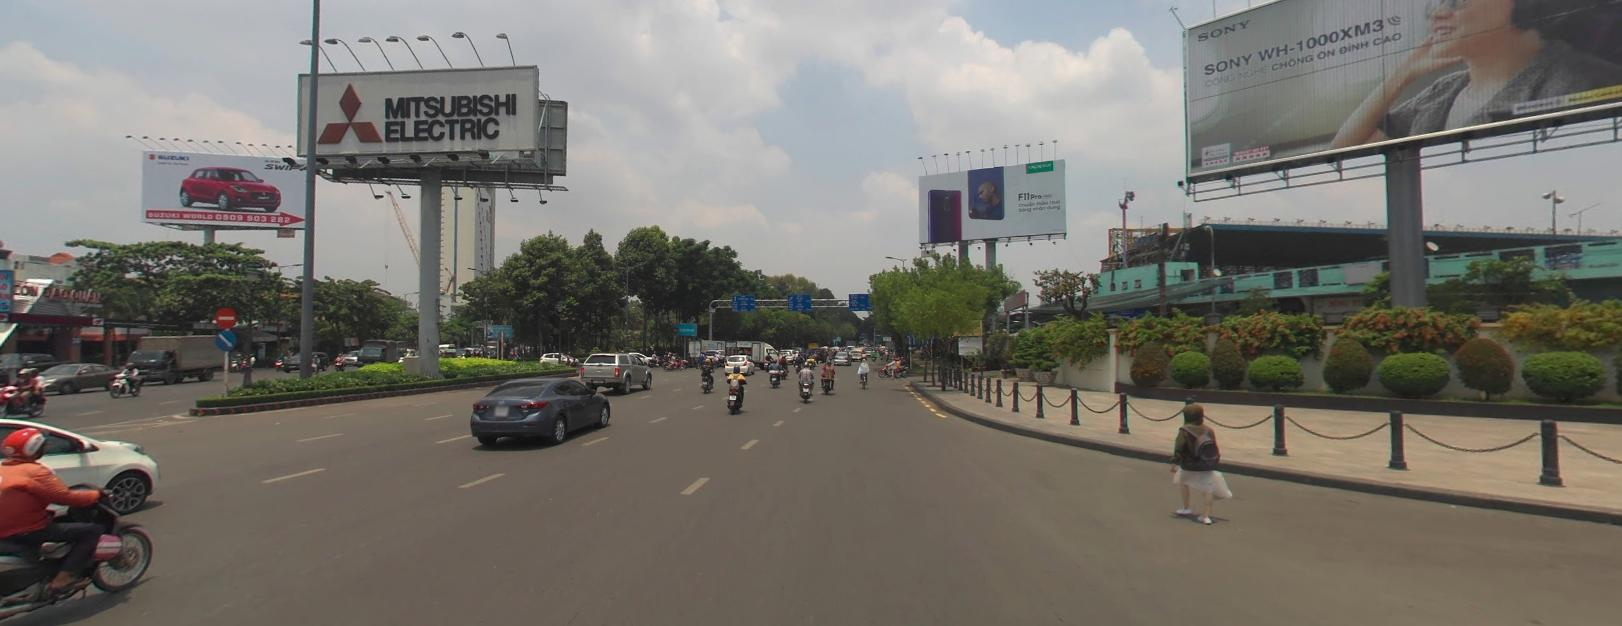Cam nguoc chieu: (215, 305, 236, 325)
Hieu lenh: (214, 327, 236, 347)
